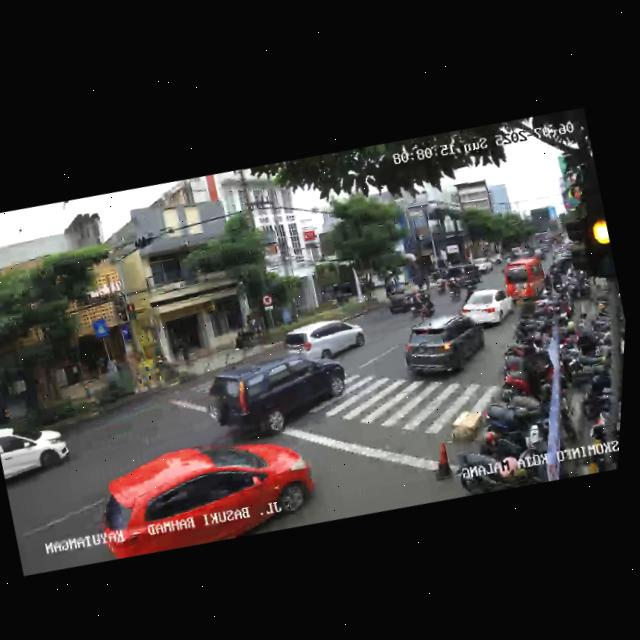car: (85, 411, 328, 574), (197, 332, 358, 453), (392, 304, 494, 391), (0, 411, 81, 497), (278, 305, 373, 373), (454, 281, 518, 336), (500, 249, 555, 308), (384, 280, 433, 321), (444, 258, 485, 293)
motorcycle: (415, 287, 439, 320), (404, 286, 426, 319), (444, 272, 461, 300), (433, 273, 449, 296)
